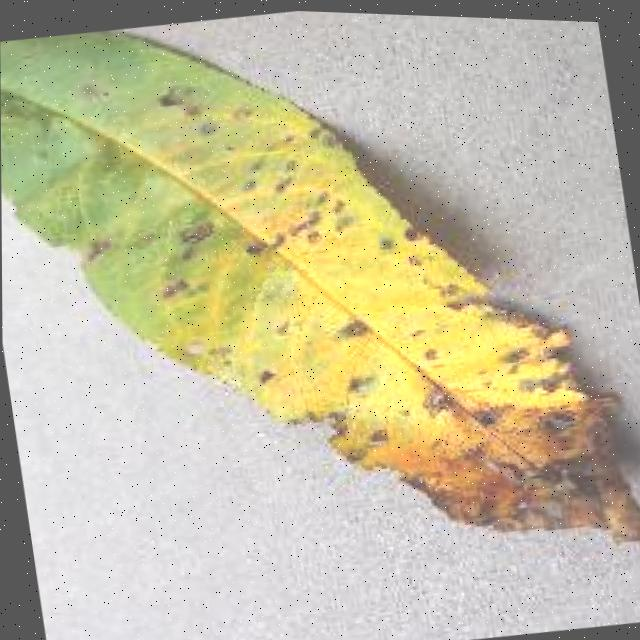Bacterial_spot: (34, 1, 640, 634)
